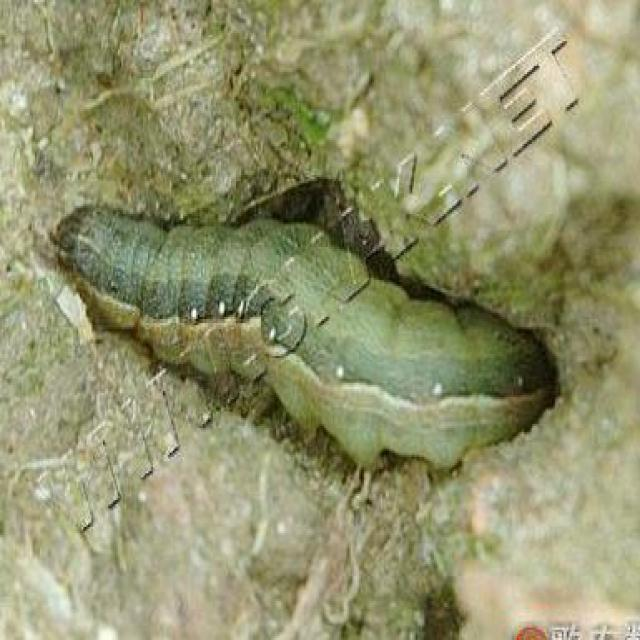armyworm: (51, 183, 559, 466)
